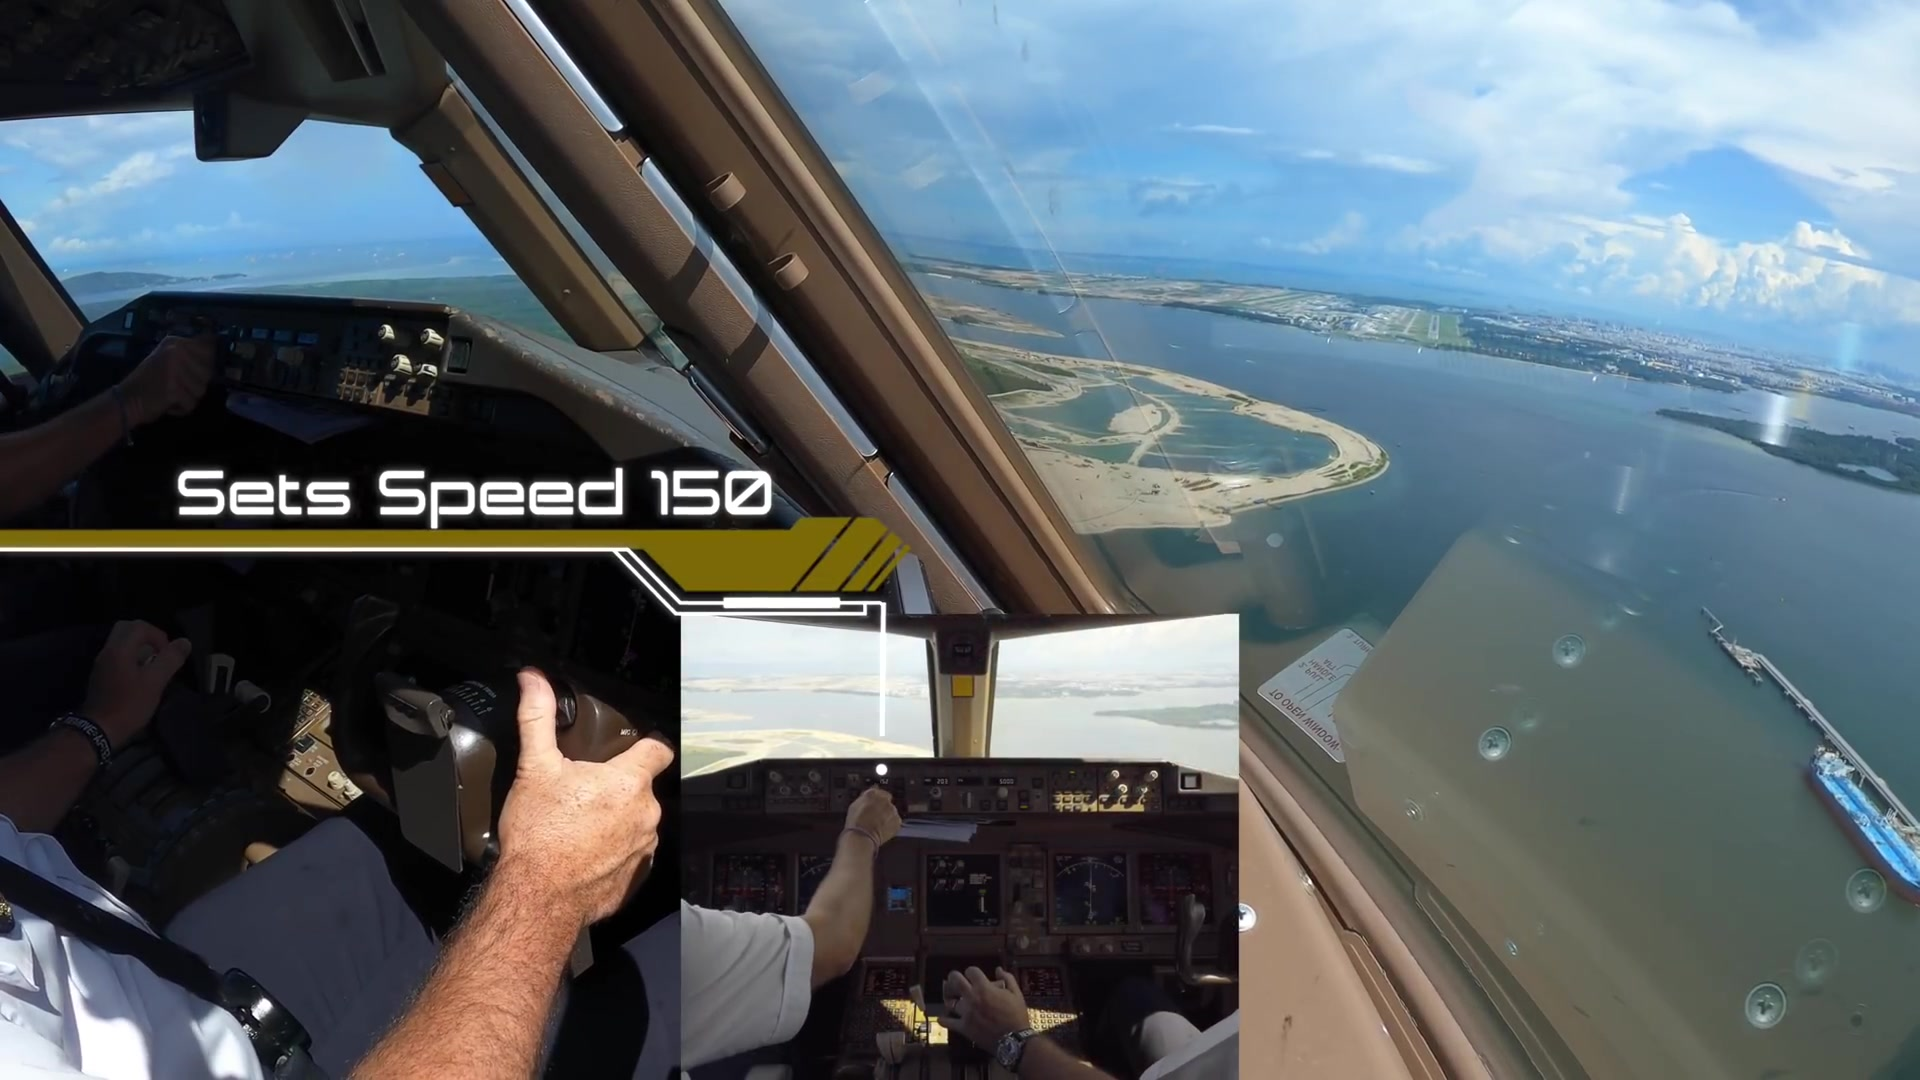runway: (1423, 314, 1443, 342)
